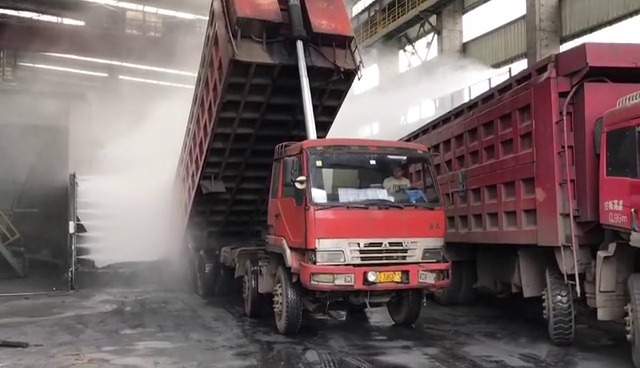dust: (21, 44, 164, 266), (336, 40, 496, 136)
truck: (170, 0, 448, 331), (452, 38, 640, 364)
